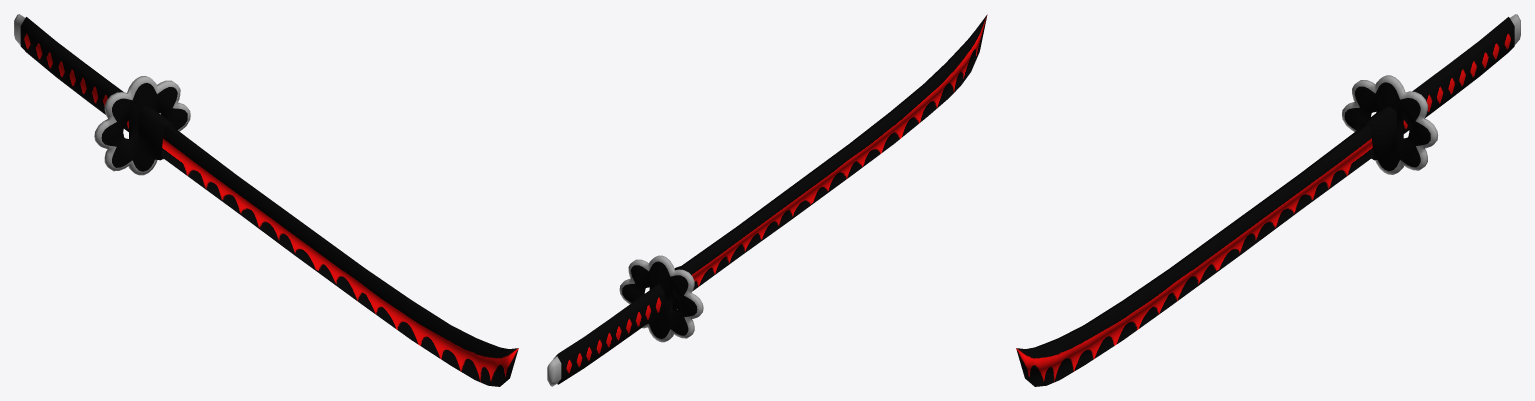
Rendered from W005_0100_Skin.FBX.
3 renders of one model, left to right at view 1: azimuth 30°, elevation 25°; view 2: azimuth 150°, elevation 25°; view 3: azimuth 330°, elevation 25°, orthographic. The views are drawn at different scales.
Visible parts, largest first — view 1: W005_0100; view 2: W005_0100; view 3: W005_0100.
Boxes of the visible parts, box(x1,y1,x2,y2) form: W005_0100: box(14, 14, 518, 386); W005_0100: box(547, 14, 987, 386); W005_0100: box(1016, 14, 1520, 386).
Size of the model in its own units: 13.64 by 13.96 by 126.
